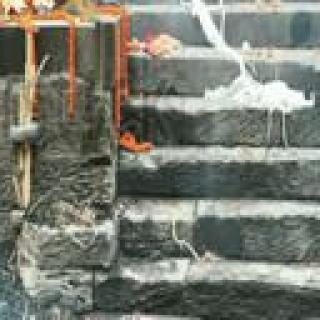fire: (0, 0, 30, 9)
